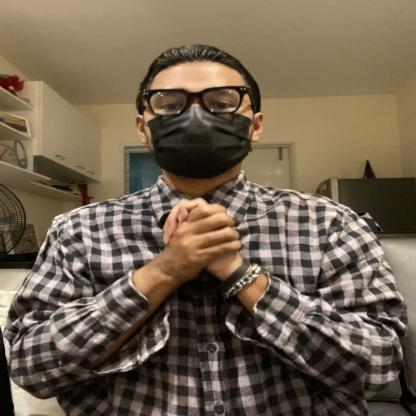Grieve: (55, 178, 330, 293)
